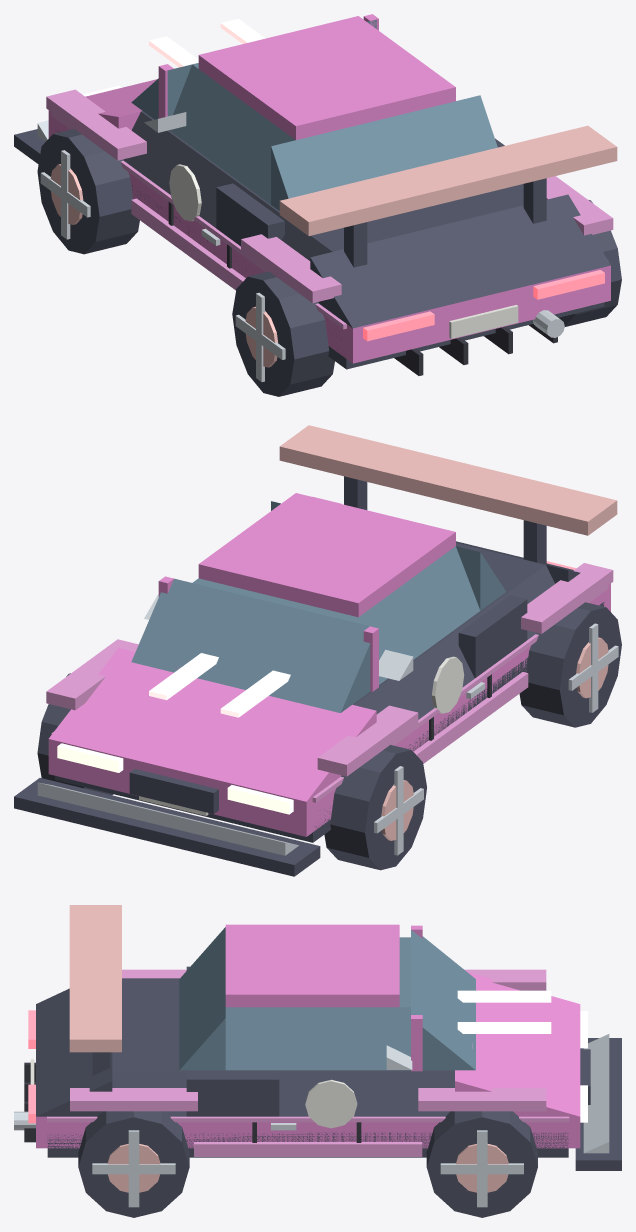
File: redline_rocket.glb
The picture shows the model from 3 angles, top to bottom: view 1: azimuth 30°, elevation 25°; view 2: azimuth 150°, elevation 25°; view 3: azimuth 270°, elevation 25°; orthographic projection. The views are drawn at different scales.
Visible parts, largest first — view 1: Tail.096, Roof.296, RearWing.059, RearWindow.196, Body.296, CabinSideL.093, Wheel_RL.256, Wheel_FL.256, ShoulderL.093, BodyUpper.093, Arch-1False.172, Arch-1True.172 (+26 smaller); view 2: Nose.093, Windshield.196, Roof.296, RearWing.059, Body.296, Splitter.063, Wheel_FL.256, Wheel_RL.256, CabinSideL.093, ShoulderL.093, Bumper.292, AirIntake-1.059 (+26 smaller); view 3: Roof.296, CabinSideR.093, Nose.093, RearWing.059, Body.296, ShoulderR.093, Wheel_RR.256, Wheel_FR.256, Windshield.196, BodyUpper.093, Tail.096, RearWindow.196 (+22 smaller).
Part boxes in pixels (left/top/right/bottom): Tail.096: left=310, top=194, right=610, bottom=328; Roof.296: left=198, top=16, right=455, bottom=140; RearWing.059: left=279, top=125, right=617, bottom=235; RearWindow.196: left=271, top=95, right=497, bottom=210; Body.296: left=48, top=110, right=610, bottom=363; CabinSideL.093: left=169, top=64, right=295, bottom=204; Wheel_RL.256: left=232, top=271, right=334, bottom=396; Wheel_FL.256: left=37, top=129, right=139, bottom=254; ShoulderL.093: left=123, top=112, right=332, bottom=260; BodyUpper.093: left=141, top=111, right=523, bottom=251; Arch-1False.172: left=46, top=89, right=146, bottom=160; Arch-1True.172: left=241, top=234, right=341, bottom=303; Nose.093: left=49, top=647, right=376, bottom=801; Windshield.196: left=131, top=578, right=370, bottom=712; Roof.296: left=198, top=493, right=455, bottom=617; RearWing.059: left=279, top=425, right=617, bottom=535; Body.296: left=48, top=583, right=610, bottom=836; Splitter.063: left=14, top=778, right=320, bottom=876; Wheel_FL.256: left=324, top=745, right=426, bottom=870; Wheel_RL.256: left=519, top=602, right=621, bottom=727; CabinSideL.093: left=352, top=546, right=480, bottom=684; ShoulderL.093: left=354, top=565, right=554, bottom=719; Bumper.292: left=37, top=782, right=298, bottom=855; AirIntake-1.059: left=458, top=595, right=527, bottom=677; Roof.296: left=225, top=924, right=399, bottom=1007; CabinSideR.093: left=225, top=1007, right=410, bottom=1070; Nose.093: left=455, top=972, right=580, bottom=1116; RearWing.059: left=69, top=905, right=121, bottom=1052; Body.296: left=36, top=1116, right=580, bottom=1148; ShoulderR.093: left=112, top=1071, right=454, bottom=1116; Wheel_RR.256: left=78, top=1111, right=189, bottom=1217; Wheel_FR.256: left=426, top=1111, right=537, bottom=1217; Windshield.196: left=411, top=930, right=475, bottom=1070; BodyUpper.093: left=112, top=978, right=454, bottom=1071; Tail.096: left=36, top=988, right=112, bottom=1116; RearWindow.196: left=179, top=927, right=225, bottom=1070.
Size of the model in its own units: 3 by 1.78 by 5.25.
